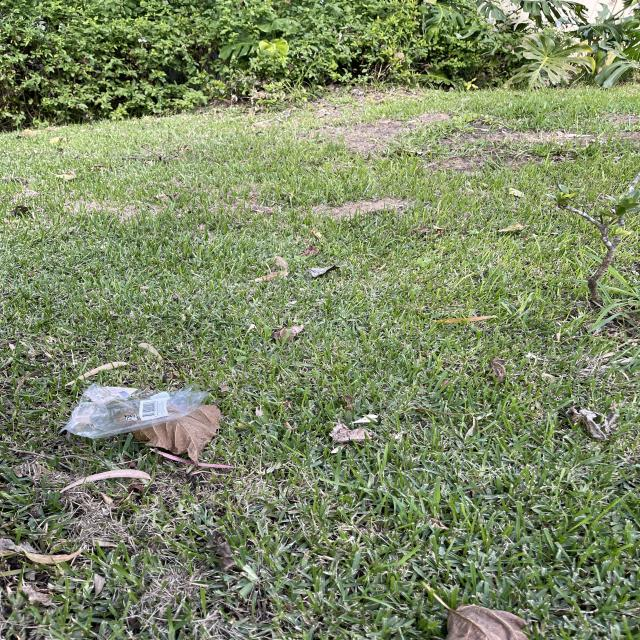bag: (59, 375, 218, 449)
